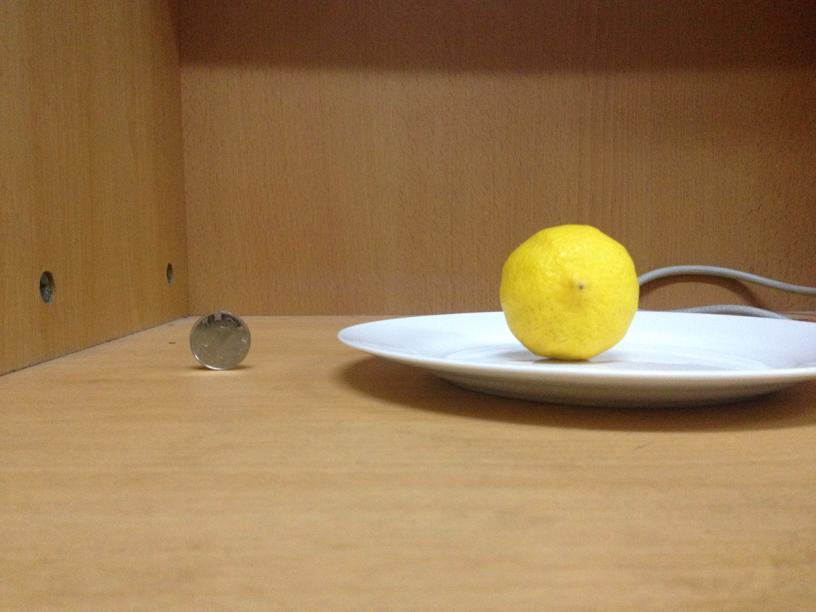coin: (189, 311, 251, 370)
lemon: (497, 224, 638, 360)
